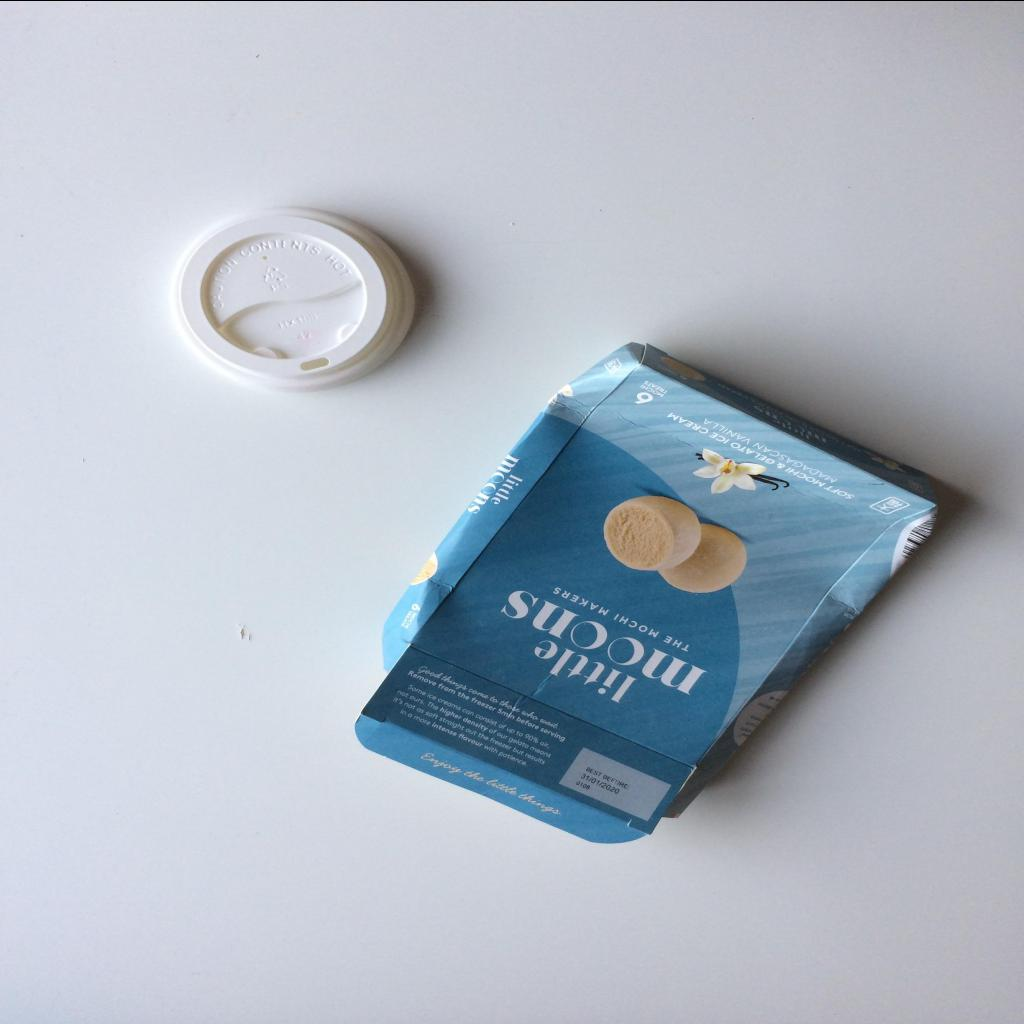Other carton: (354, 340, 938, 842)
Plastic lid: (159, 205, 415, 392)
